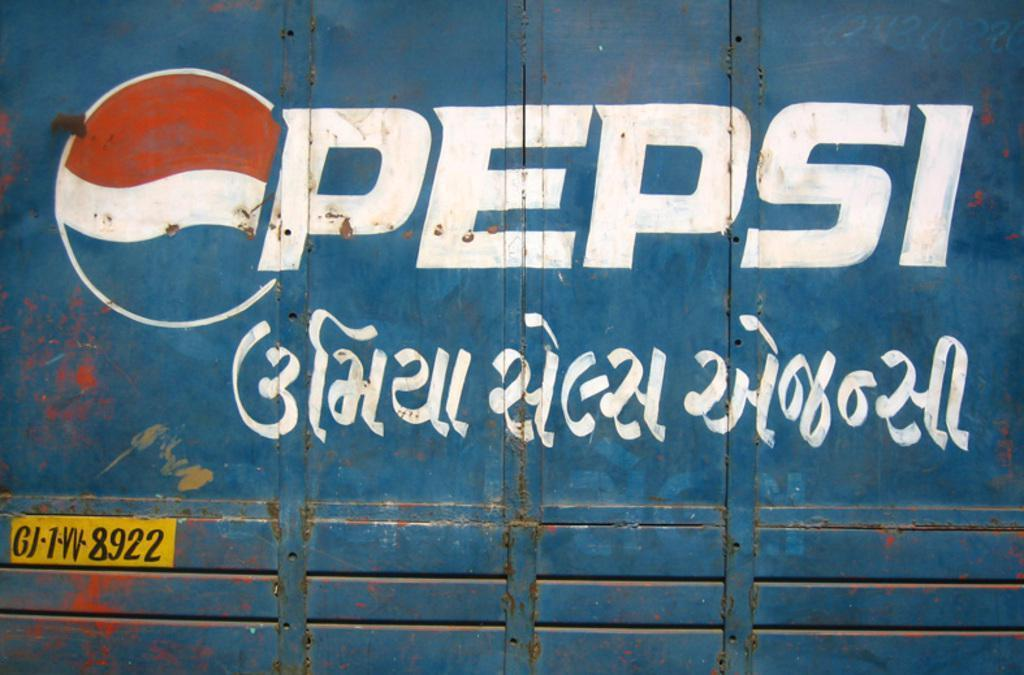bienso: (22, 511, 178, 567)
